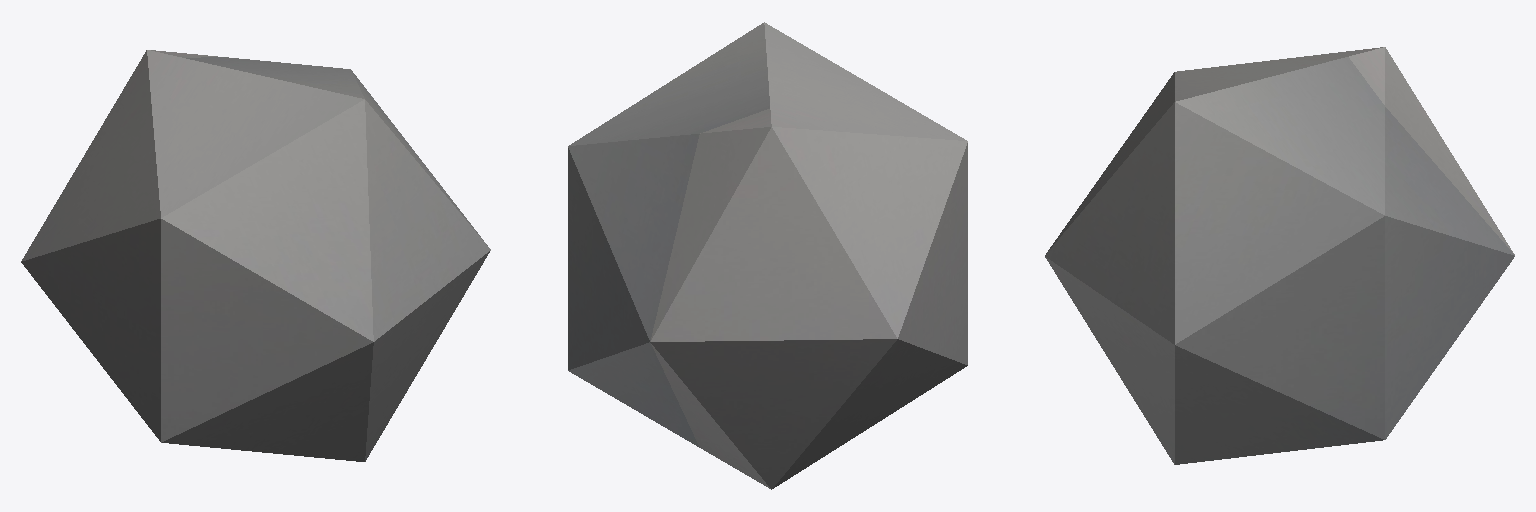
The picture shows the model from 3 angles: view 1: azimuth 30°, elevation 25°; view 2: azimuth 150°, elevation 25°; view 3: azimuth 270°, elevation 25°; orthographic projection.
Visible parts, largest first — view 1: pasted__pPlatonic16 group1; view 2: pasted__pPlatonic16 group1; view 3: pasted__pPlatonic16 group1.
Boxes of the visible parts, box(x1,y1,x2,y2) form: pasted__pPlatonic16 group1: box(21, 50, 490, 461); pasted__pPlatonic16 group1: box(568, 22, 967, 489); pasted__pPlatonic16 group1: box(1045, 47, 1514, 464).
Size of the model in its own units: 0.3365 by 0.3201 by 0.3763.
1 materials, 1 textured.